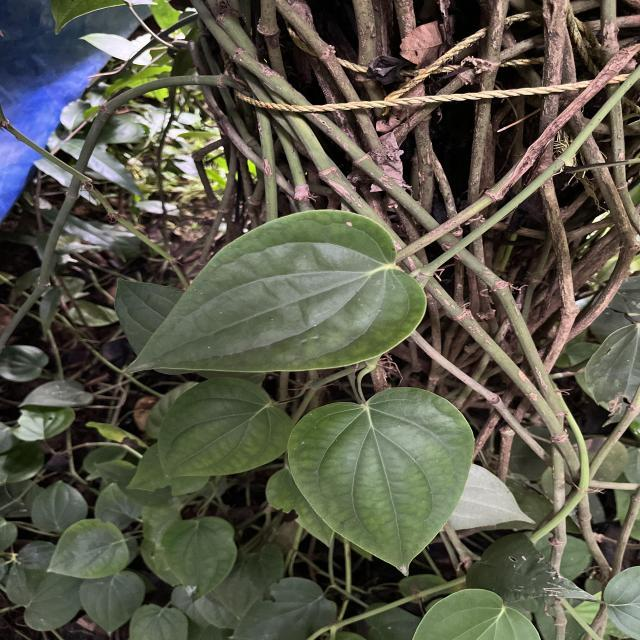Piper nigrum: (121, 206, 432, 380), (285, 386, 477, 578), (155, 376, 295, 482)
